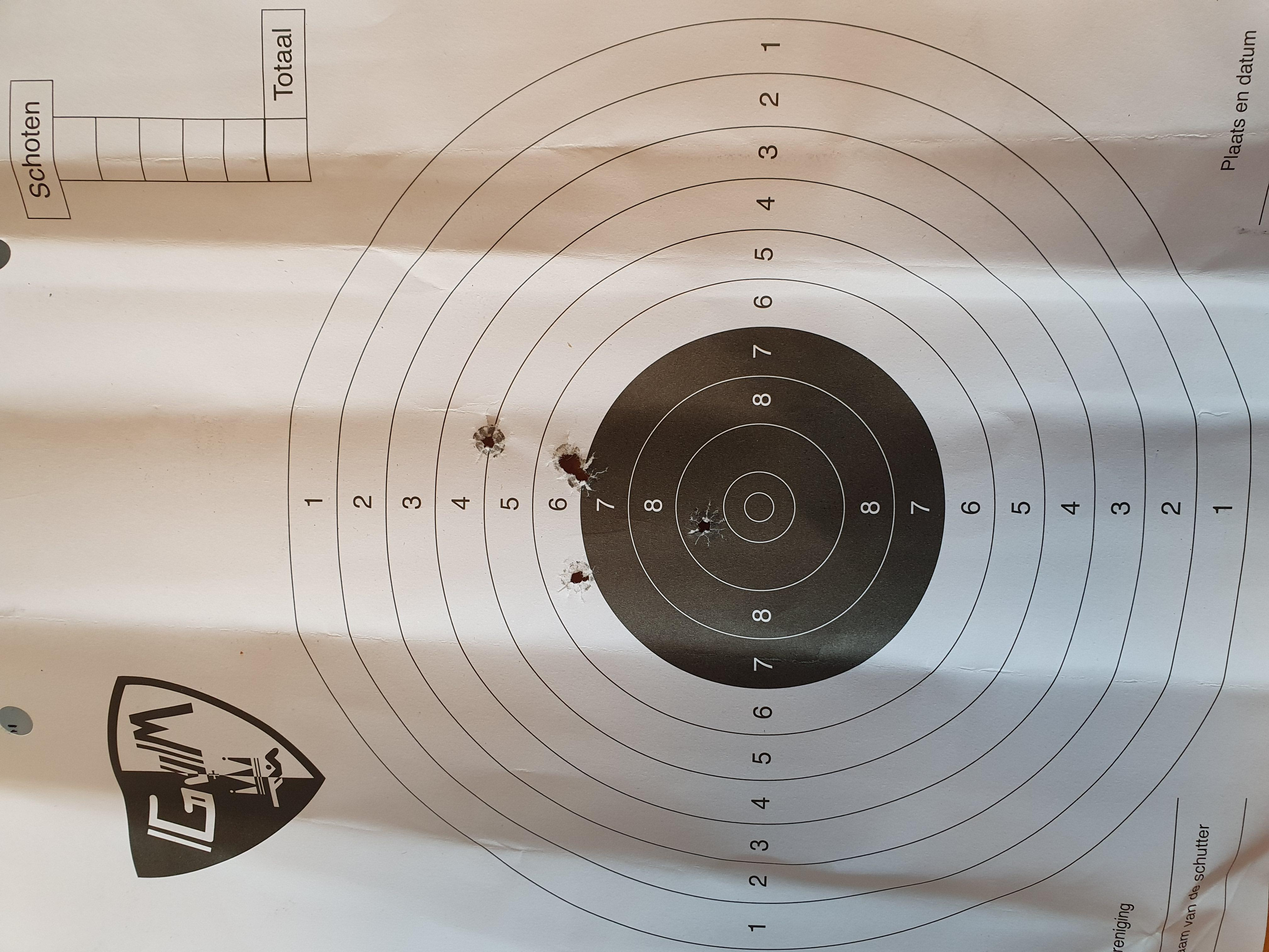hole: (537, 511, 600, 543), (464, 416, 525, 448), (654, 351, 716, 382), (639, 412, 684, 437), (612, 427, 656, 450)
